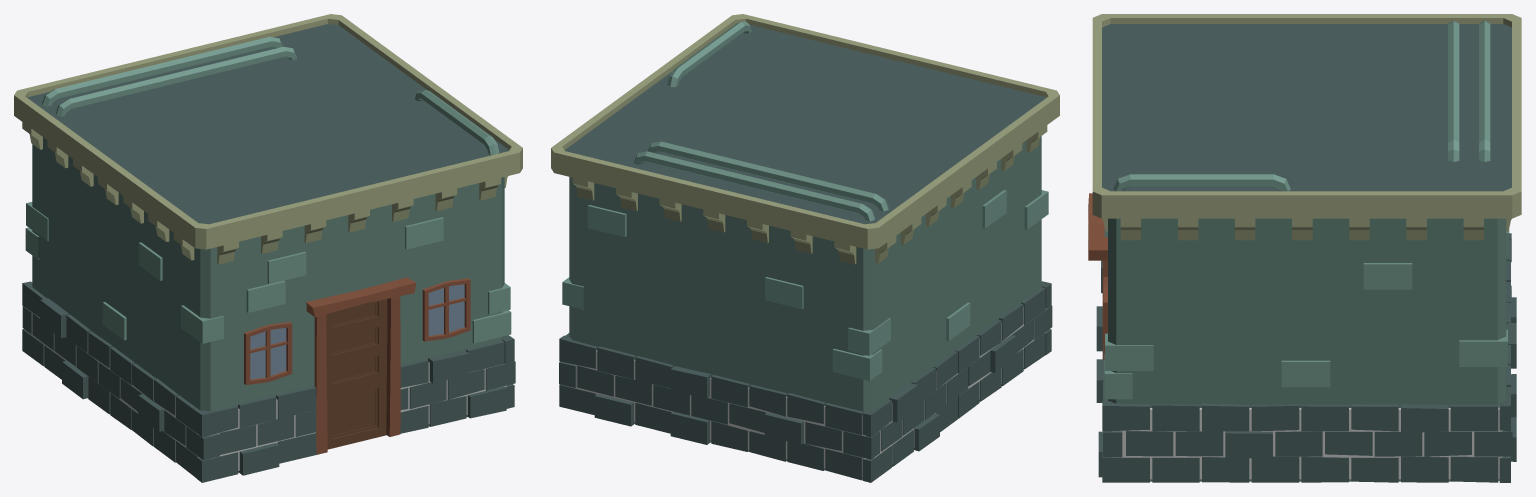
The model's file is 1Story_Mat.gltf.
The picture shows the model from 3 angles, left to right: view 1: azimuth 30°, elevation 25°; view 2: azimuth 150°, elevation 25°; view 3: azimuth 270°, elevation 25°; orthographic projection. The views are drawn at different scales.
Visible parts, largest first — view 1: 1Story_Mat; view 2: 1Story_Mat; view 3: 1Story_Mat.
Boxes of the visible parts, x1=… form: 1Story_Mat: x1=14, y1=14, x2=522, y2=482; 1Story_Mat: x1=551, y1=14, x2=1059, y2=482; 1Story_Mat: x1=1088, y1=14, x2=1521, y2=482.
Bounding box in the file's own units: 2.15 × 1.67 × 2.17.
